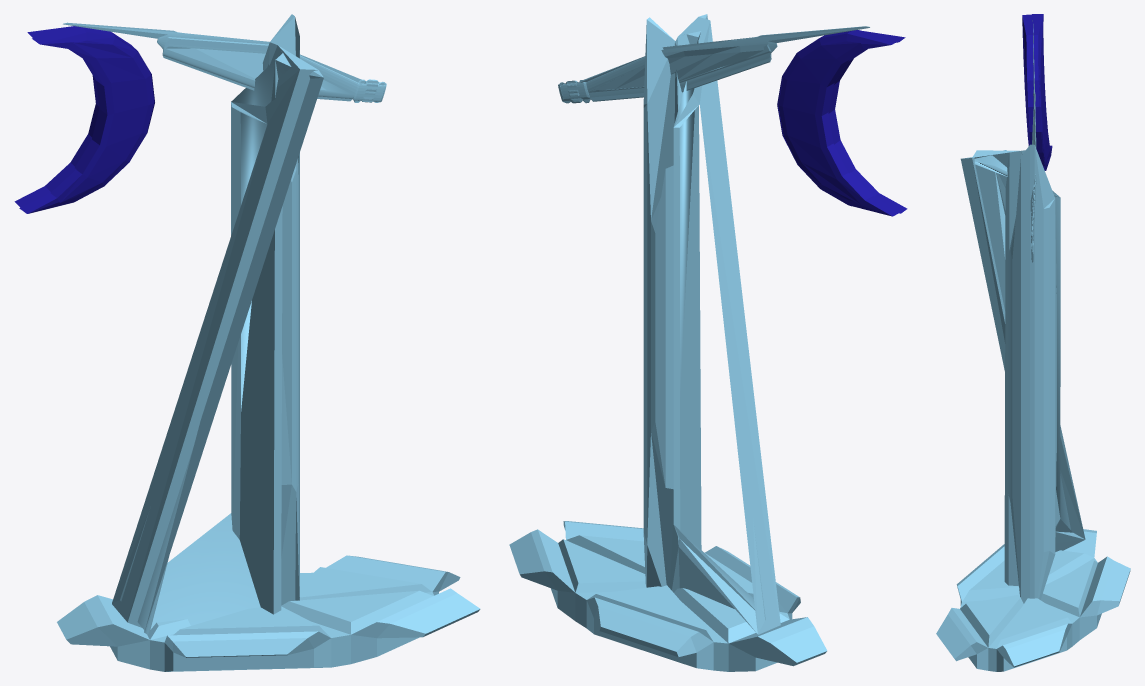
Rendered from moon tree.FBX.
3 views of the same model, side by side, from view 1: azimuth 30°, elevation 25°; view 2: azimuth 150°, elevation 25°; view 3: azimuth 270°, elevation 25° (orthographic). The views are drawn at different scales.
Parts seen in each view (by area): view 1: Gengon002; view 2: Gengon002; view 3: Gengon002.
Part boxes in pixels (bbox=[...]): Gengon002: bbox=[14, 14, 480, 671]; Gengon002: bbox=[509, 14, 907, 671]; Gengon002: bbox=[936, 14, 1130, 671].
Bounding box in the file's own units: 29.13 × 44.34 × 14.85.
